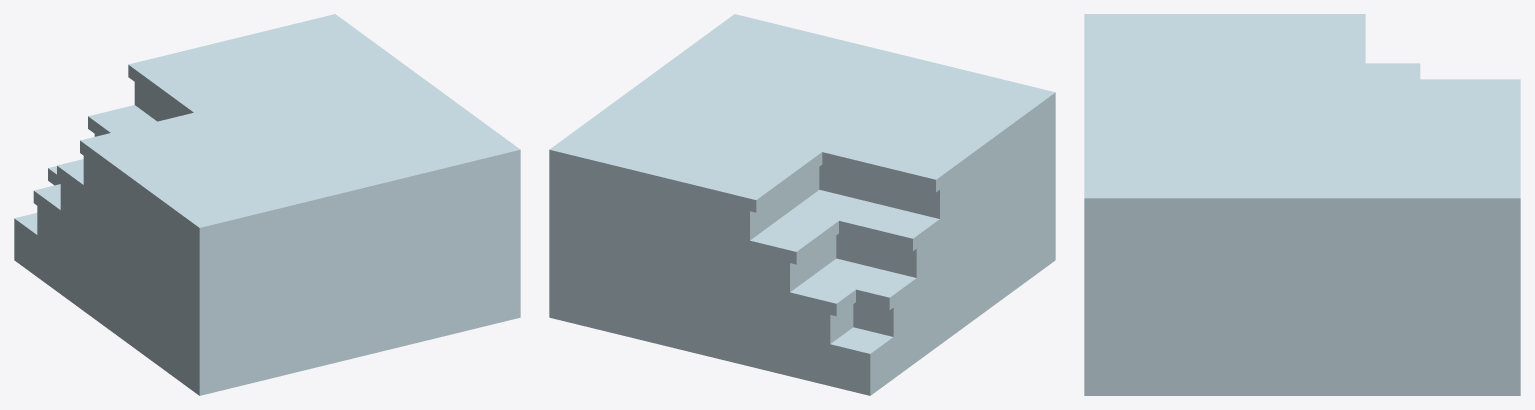
3 renders of one model, left to right at view 1: azimuth 30°, elevation 25°; view 2: azimuth 150°, elevation 25°; view 3: azimuth 270°, elevation 25°, orthographic. The views are drawn at different scales.
Visible parts, largest first — view 1: stairsFullCornerInner; view 2: stairsFullCornerInner; view 3: stairsFullCornerInner.
Boxes of the visible parts, box(x1,y1,x2,y2) form: stairsFullCornerInner: box(14, 14, 520, 395); stairsFullCornerInner: box(549, 14, 1055, 395); stairsFullCornerInner: box(1084, 14, 1520, 395).
Size of the model in its own units: 1 by 0.5 by 1.
